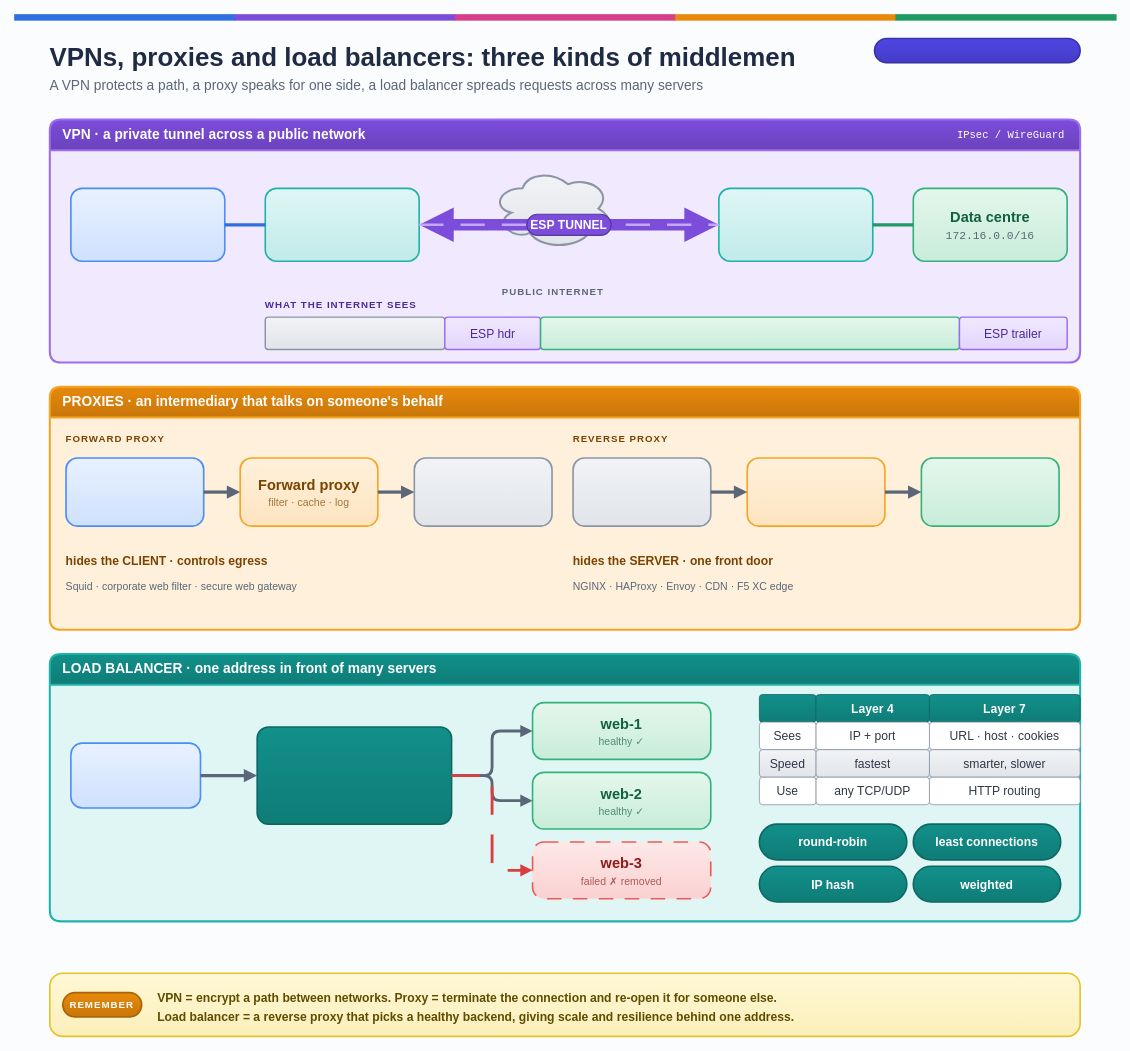
This 1130x1051 diagram has some shape labels left out. The centre of each missing label's shape, as x and y in pixels:
"Backends private servers" goes at pixel 989 491.
"Branch LAN 10.0.0.0/24" goes at pixel 147 224.
"Clients inside" goes at pixel 134 491.
"Clients many users" goes at pixel 135 775.
"Internet any website" goes at pixel 482 491.
"Internet users anyone" goes at pixel 641 491.
"Load balancer VIP 203.0.113.10:443 health checks every 5 s" goes at pixel 354 775.
"New IP: A → B" goes at pixel 354 333.
"Original packet 10.0.0.5 → 172.16.1.8 (encrypted)" goes at pixel 749 333.
"Reverse proxy TLS · cache · WAF" goes at pixel 815 491.
"STAGE 14 · VPN · PROXY · LB" goes at pixel 977 50.
"VPN gateway A 198.51.100.1" goes at pixel 342 224.
"VPN gateway B 203.0.113.9" goes at pixel 795 224.
